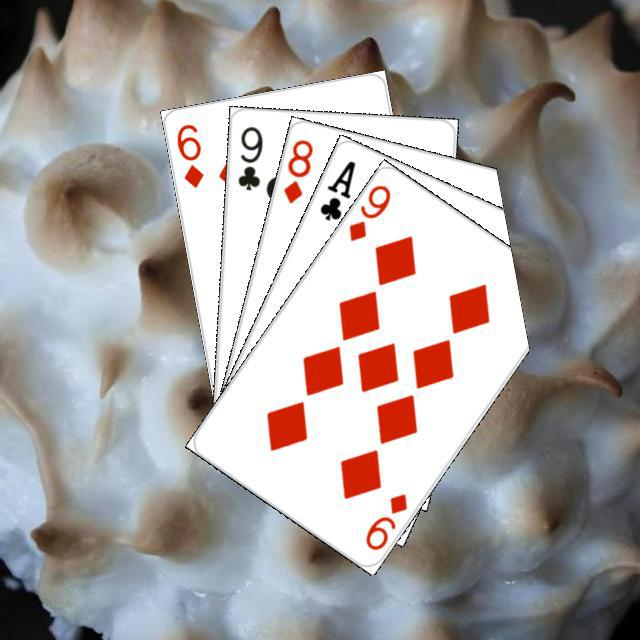6d: (171, 119, 206, 190)
8d: (278, 134, 315, 205)
9c: (233, 121, 264, 192)
9d: (343, 179, 393, 244), (360, 488, 409, 553)
Ac: (314, 155, 358, 223)
